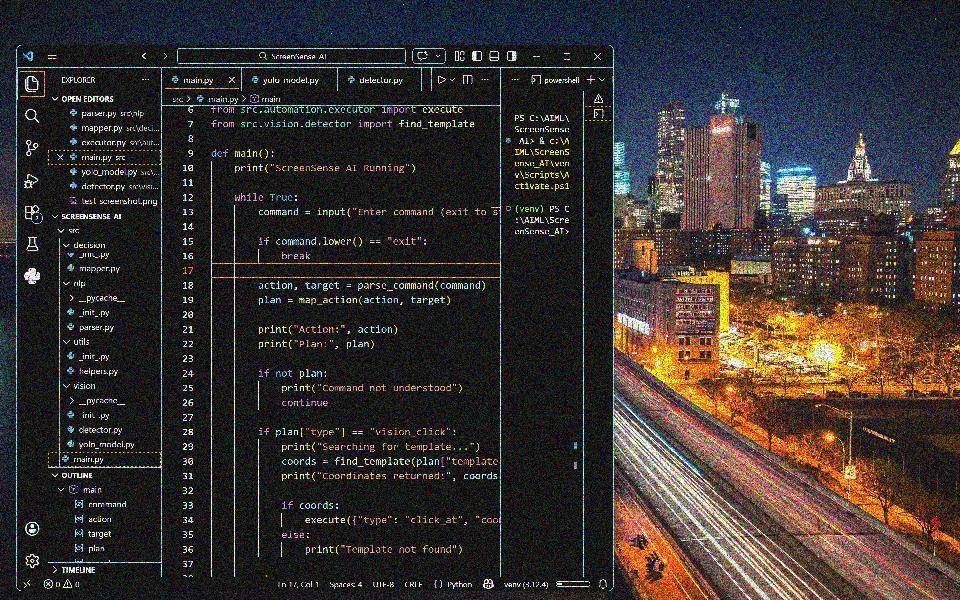close_button: (588, 47, 607, 66)
maximize_button: (557, 47, 575, 63)
minimize_button: (529, 47, 546, 66)
